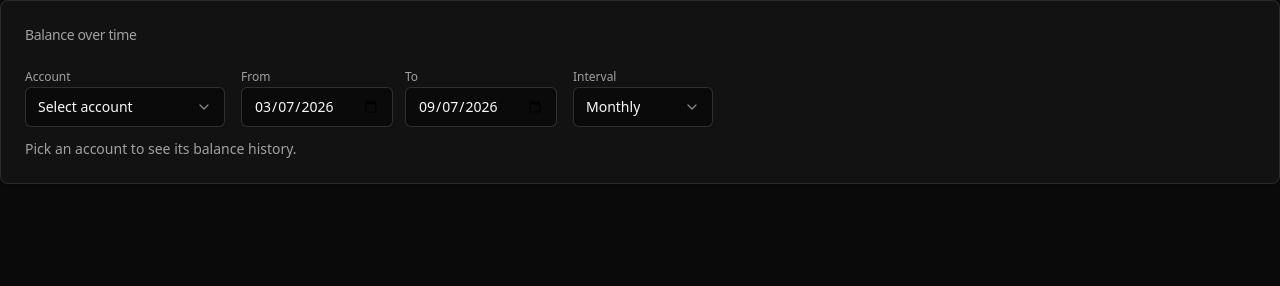
Test: BalanceOverTimeSection states › renders the empty state
This screenshot has width=1280, height=286.
Click the dropdown with test id "balance-account" at (125, 107), box [25,87,225,127]
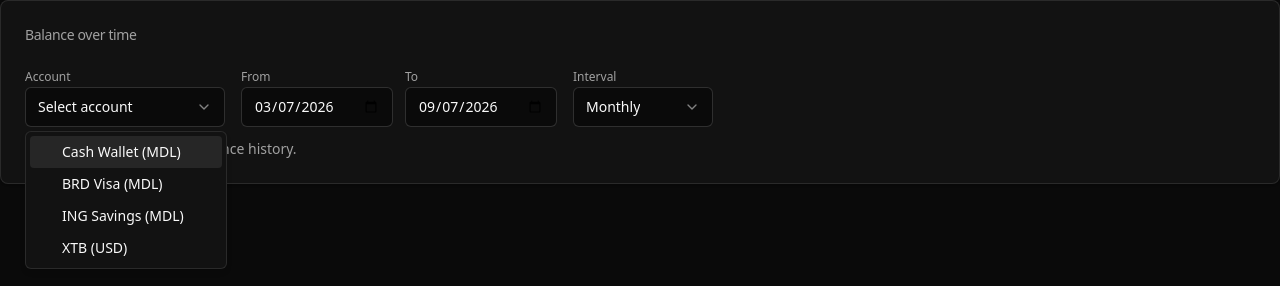
Click the option "XTB (USD)" at (95, 248), box [62,238,127,257]
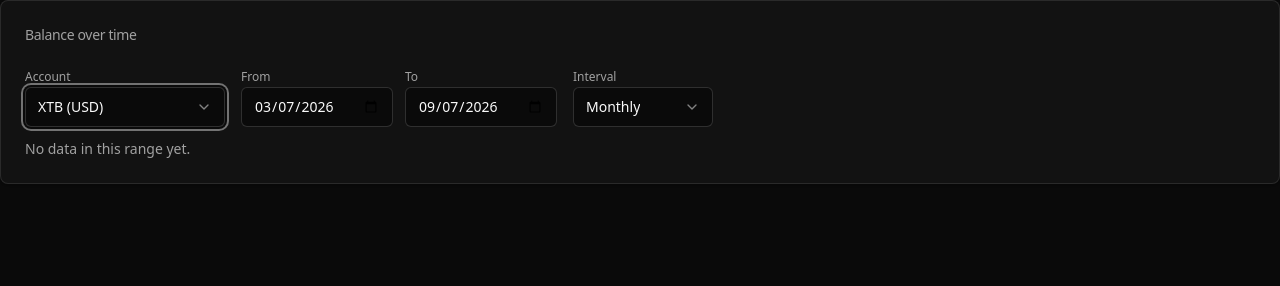
Check: the text "No data in this range yet." is shown, box [25,139,190,158]
